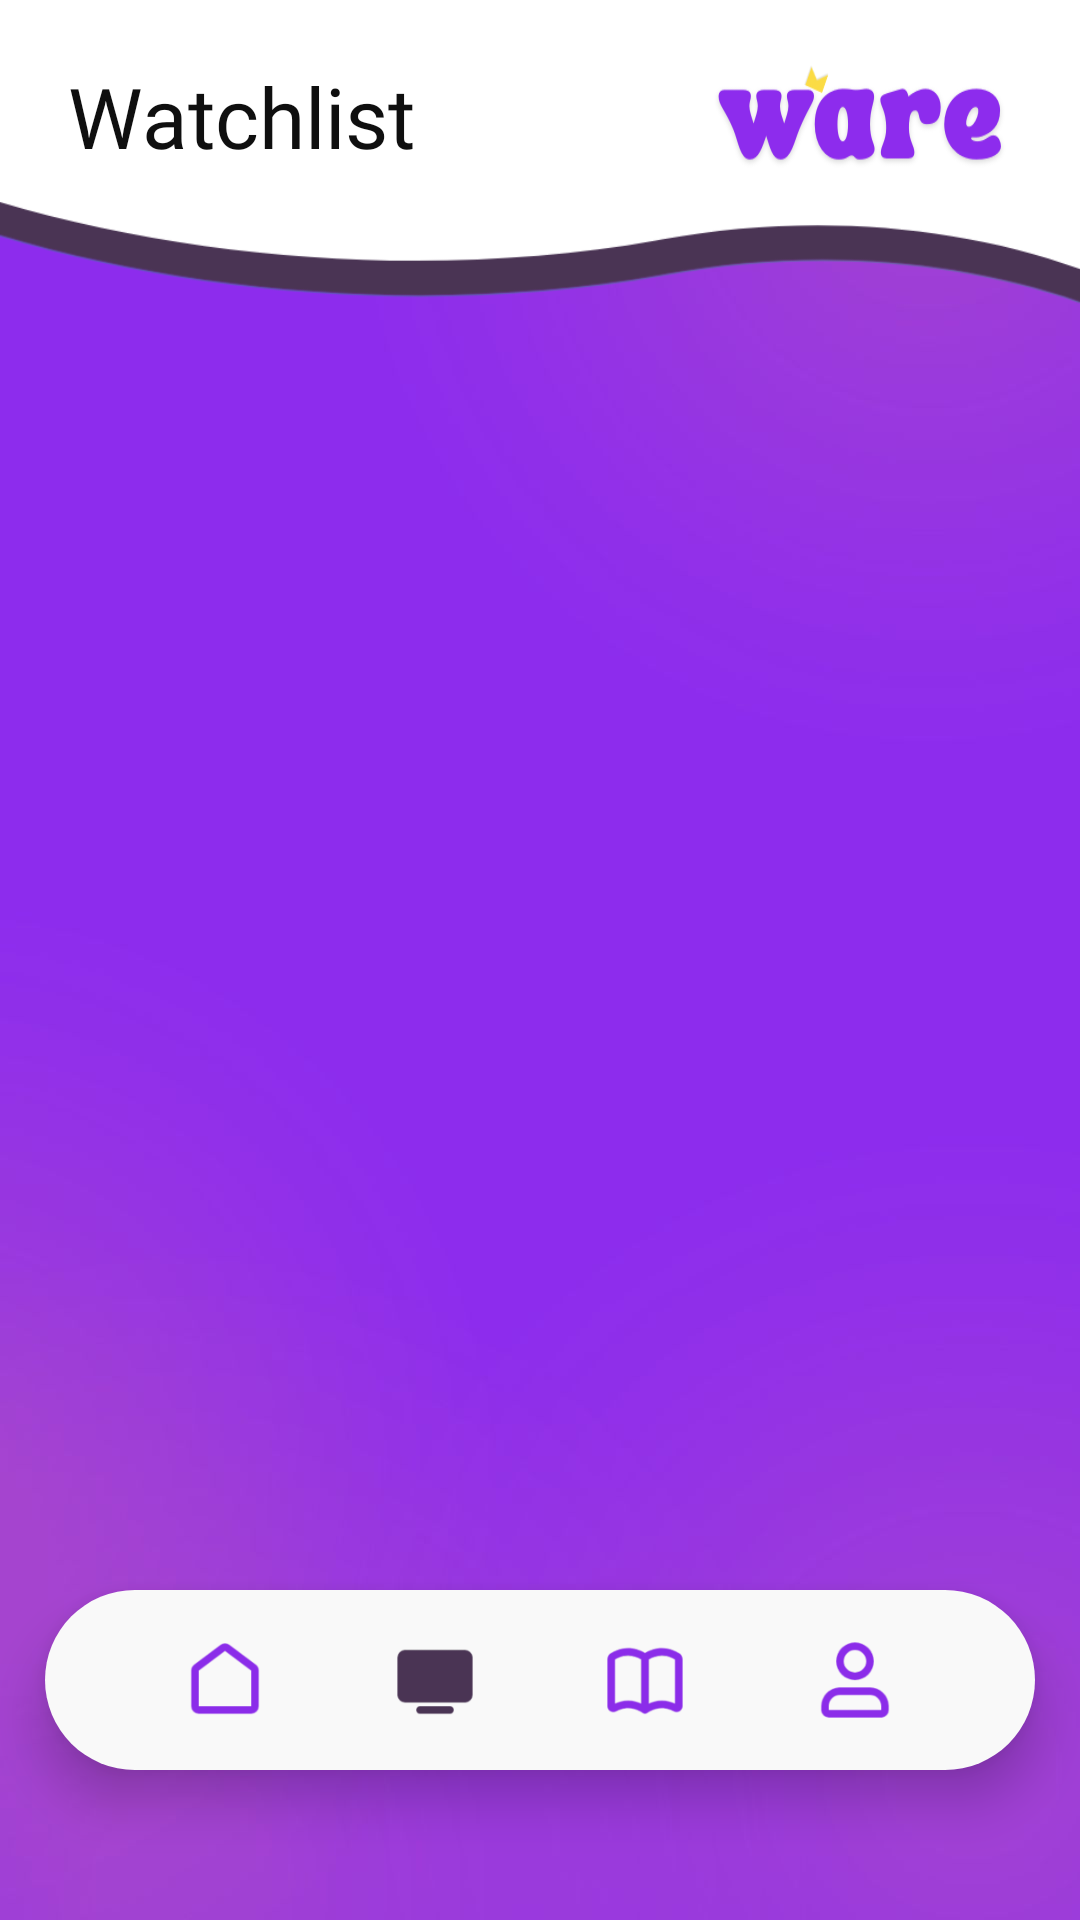

Icons on this 1080w x 1920h Android screen, each with its box as BBox(x1, y1, x2, y2):
homepage: BBox(191, 1643, 259, 1714)
profile: BBox(821, 1642, 889, 1718)
readlist: BBox(607, 1647, 683, 1714)
watch cv: BBox(397, 1649, 473, 1714)
